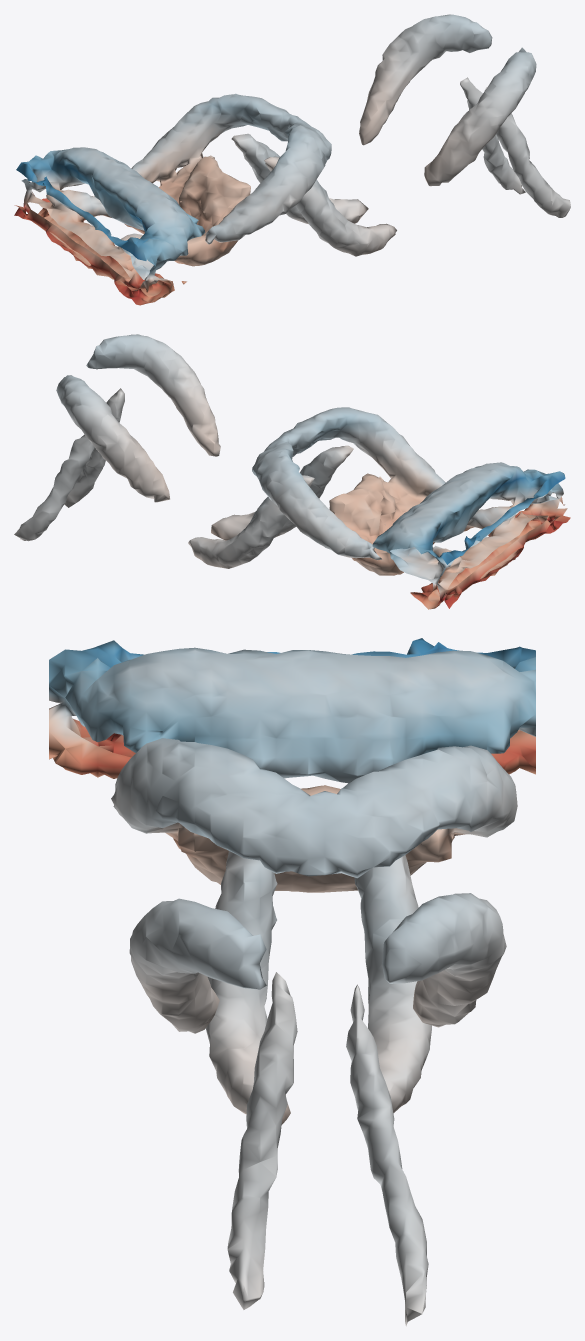
The picture shows the model from 3 angles, top to bottom: view 1: azimuth 30°, elevation 25°; view 2: azimuth 150°, elevation 25°; view 3: azimuth 270°, elevation 25°; orthographic projection. The views are drawn at different scales.
Bounding box in the file's own units: 5.52 × 2.06 × 2.5.
